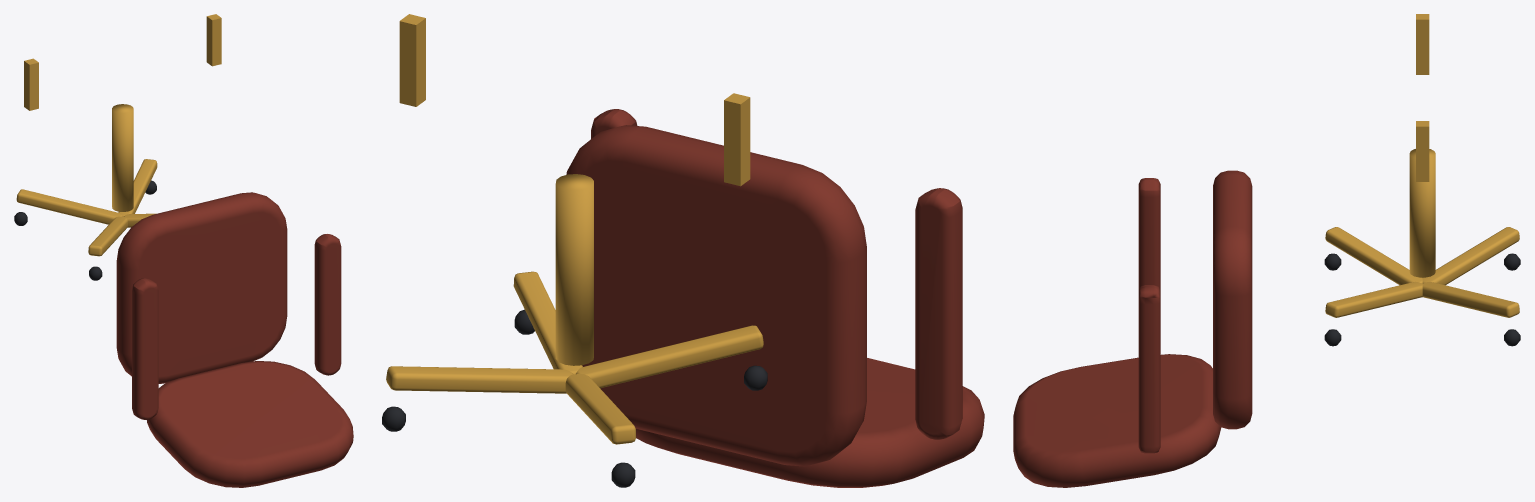
File: RmMeetingChair.fbx
The picture shows the model from 3 angles, left to right: view 1: azimuth 30°, elevation 25°; view 2: azimuth 150°, elevation 25°; view 3: azimuth 270°, elevation 25°; orthographic projection. The views are drawn at different scales.
Parts seen in each view (by area): view 1: FabricBody.001, RmMeetingChairBody; view 2: FabricBody.001, RmMeetingChairBody; view 3: FabricBody.001, RmMeetingChairBody.
Part boxes in pixels (x1,y1,x2,y2): FabricBody.001: (116,192,353,487); RmMeetingChairBody: (14,14,221,280); FabricBody.001: (566,109,984,487); RmMeetingChairBody: (382,14,767,487); FabricBody.001: (1013,170,1252,487); RmMeetingChairBody: (1324,14,1520,346).
Size of the model in its own units: 0.65 by 0.9659 by 1.16.
